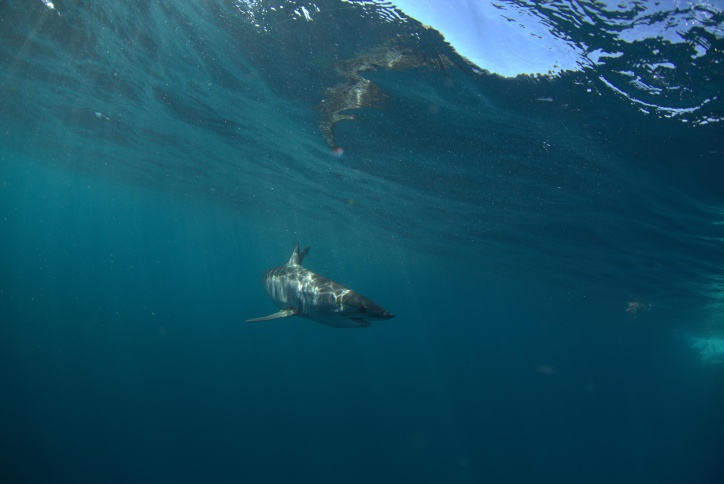Mako: (238, 232, 406, 342)
